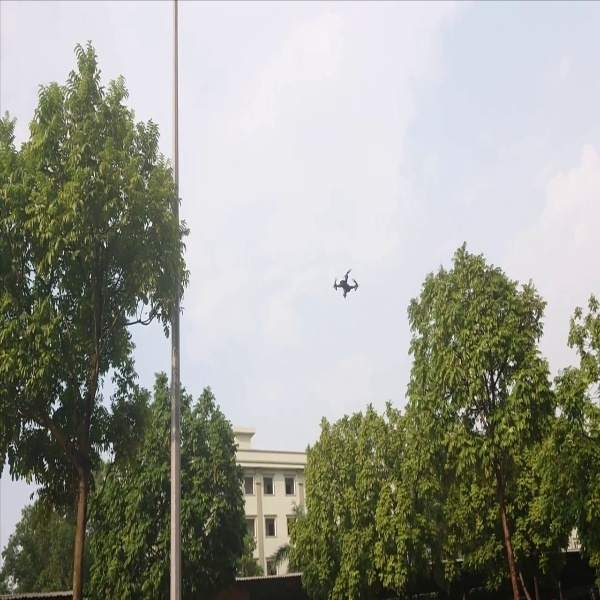drone: (329, 264, 365, 304)
